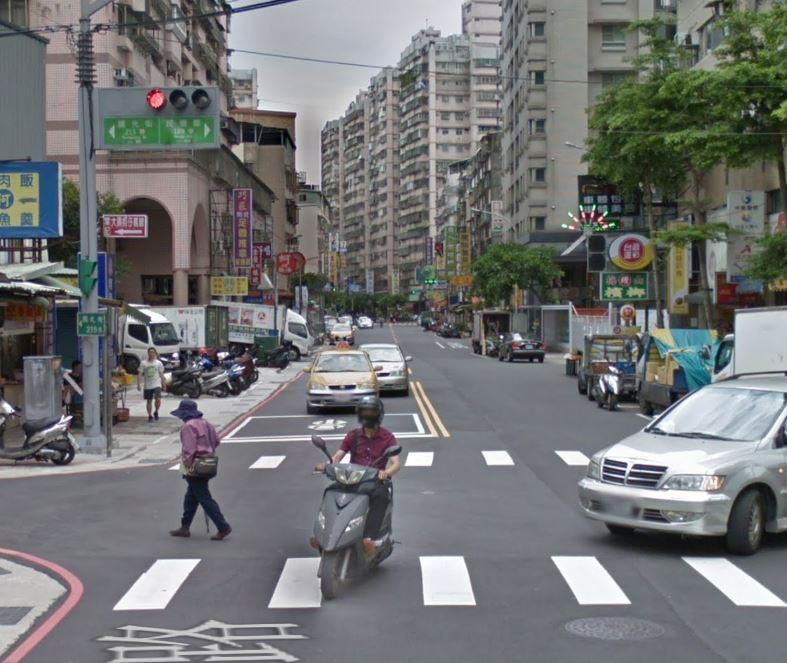red_traffic_light: (142, 85, 212, 114)
